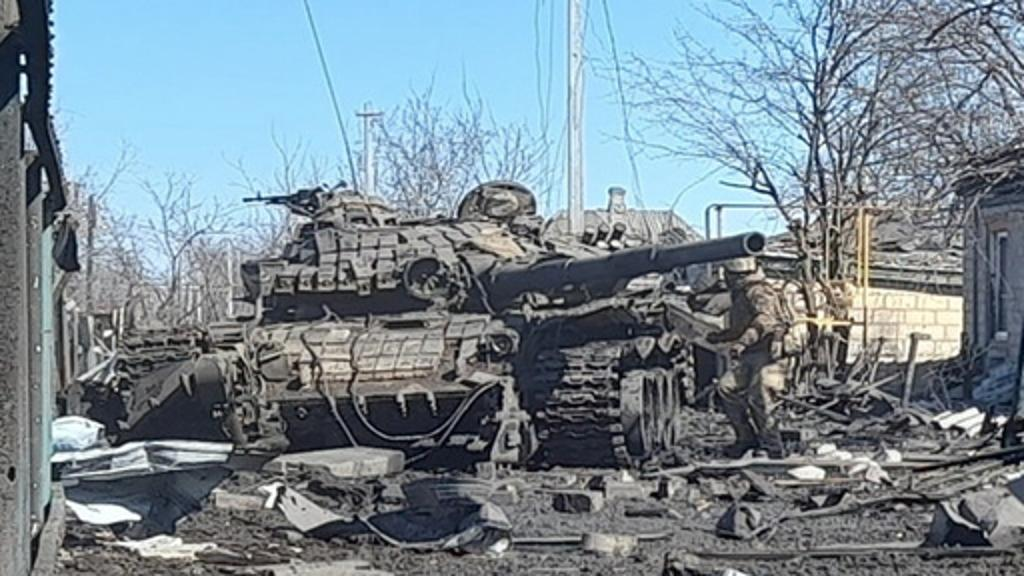TANK: (172, 198, 774, 472)
